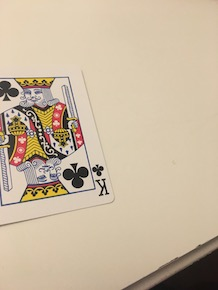KingOfClubs: (1, 59, 117, 234)
